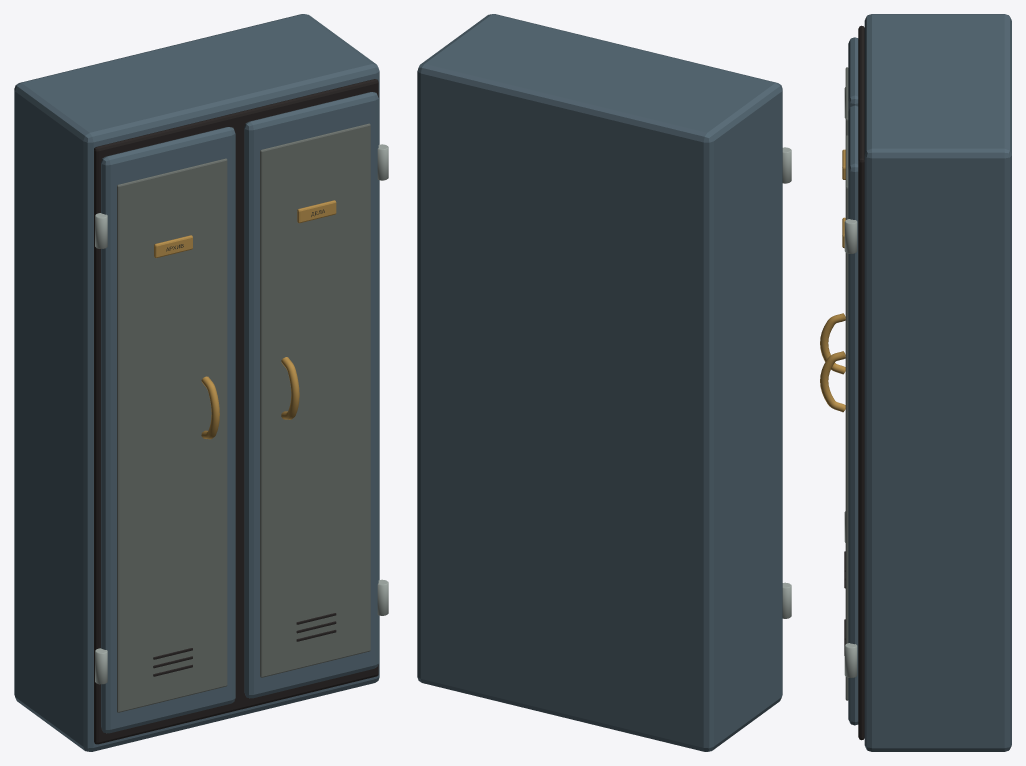
Rendered from ArchiveCabinet.fbx.
3 renders of one model, left to right at view 1: azimuth 30°, elevation 25°; view 2: azimuth 150°, elevation 25°; view 3: azimuth 270°, elevation 25°, orthographic. The views are drawn at different scales.
Visible parts, largest first — view 1: Cabinet shell, Door inset.001, Door inset, Pressed-steel door.001, Pressed-steel door, Inset face, Pull handle, Pull handle.001; view 2: Cabinet shell; view 3: Cabinet shell, Pressed-steel door.001, Inset face, Door inset.001, Pressed-steel door, Pull handle.001, Pull handle, Hinge barrel.002, Hinge barrel.003.
Boxes of the visible parts, <box> form: Cabinet shell: <box>14,14,379,751</box>; Door inset.001: <box>260,123,370,677</box>; Door inset: <box>117,158,227,712</box>; Pressed-steel door.001: <box>244,92,378,698</box>; Pressed-steel door: <box>101,127,235,733</box>; Inset face: <box>94,79,378,744</box>; Pull handle: <box>201,376,219,439</box>; Pull handle.001: <box>281,357,299,419</box>; Cabinet shell: <box>417,14,782,751</box>; Cabinet shell: <box>864,14,1011,751</box>; Pressed-steel door.001: <box>848,105,858,725</box>; Inset face: <box>858,25,864,740</box>; Door inset.001: <box>845,135,848,700</box>; Pressed-steel door: <box>848,37,858,110</box>; Pull handle.001: <box>820,351,845,412</box>; Pull handle: <box>820,313,845,374</box>; Hinge barrel.002: <box>844,643,857,677</box>; Hinge barrel.003: <box>844,219,857,253</box>.
Size of the model in its own units: 0.95 by 1.9 by 0.5482.
